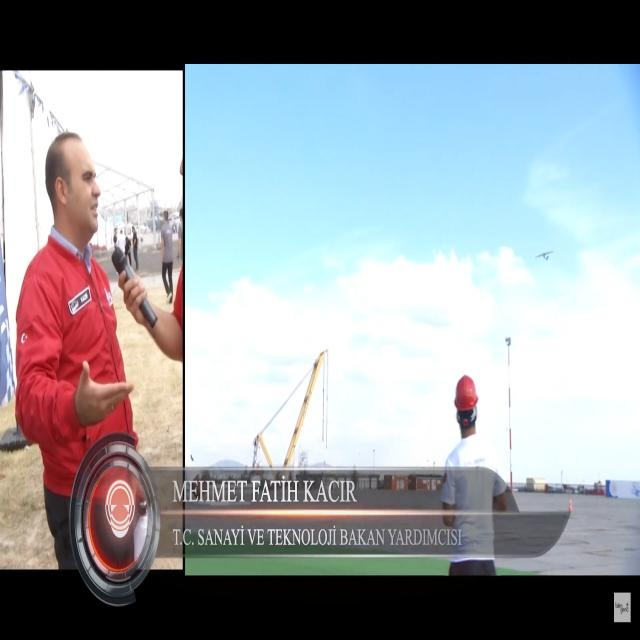iha: (534, 253, 554, 258)
